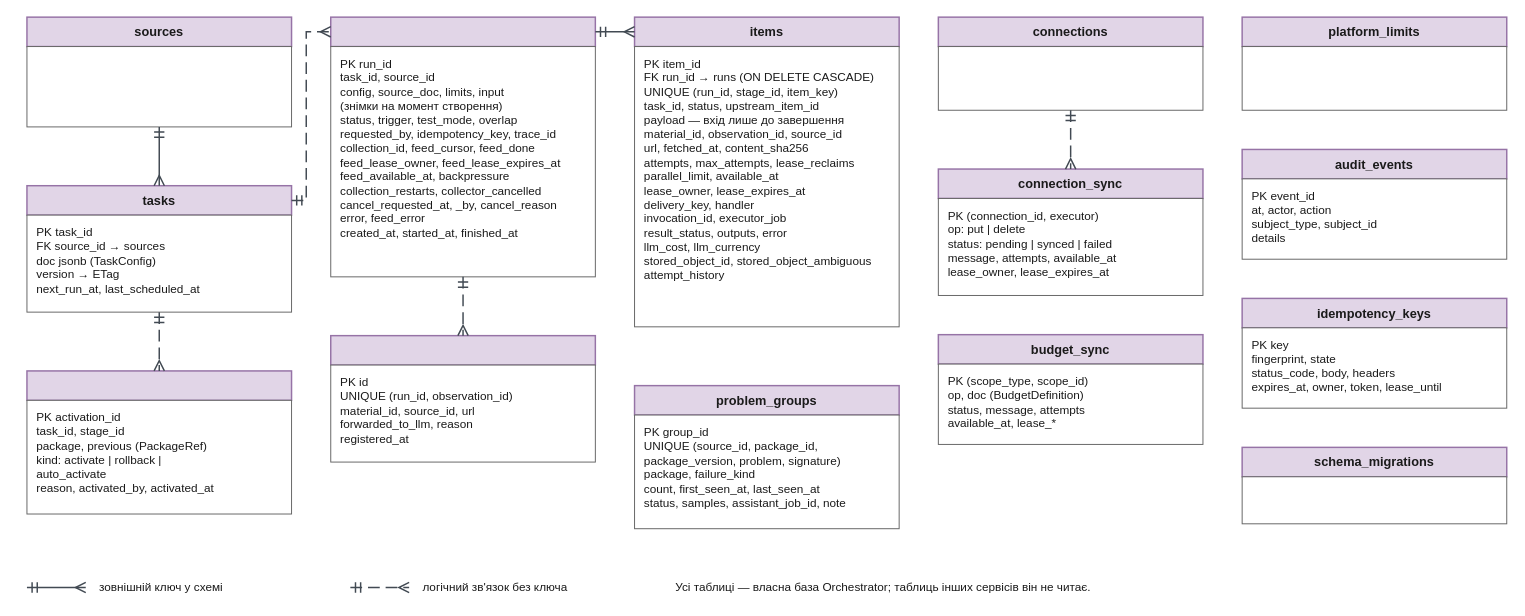
This 1525x616 diagram has some shape labels left out. The shapes that lost their labels are listed below. From the top down, each one's centre as x and y in pixels, then its label:
point 463,31: runs
point 159,86: PK source_id doc jsonb (Source) version → ETag created_at, updated_at
point 1070,78: PK connection_id doc jsonb (лише secret_refs) version → ETag
point 1374,78: PK id = 1 doc (PlatformLimits) version → ETag
point 463,349: unknown_materials
point 159,385: activations
point 1374,500: PK version applied_at
